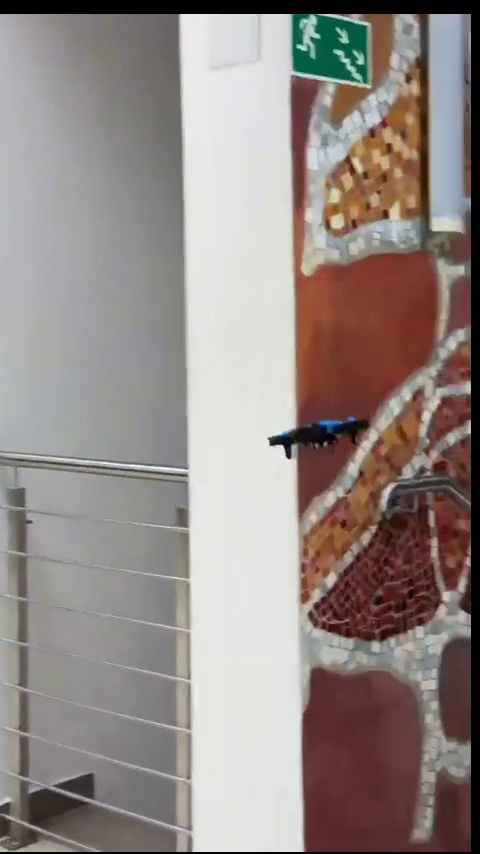drone: (271, 417, 373, 454)
